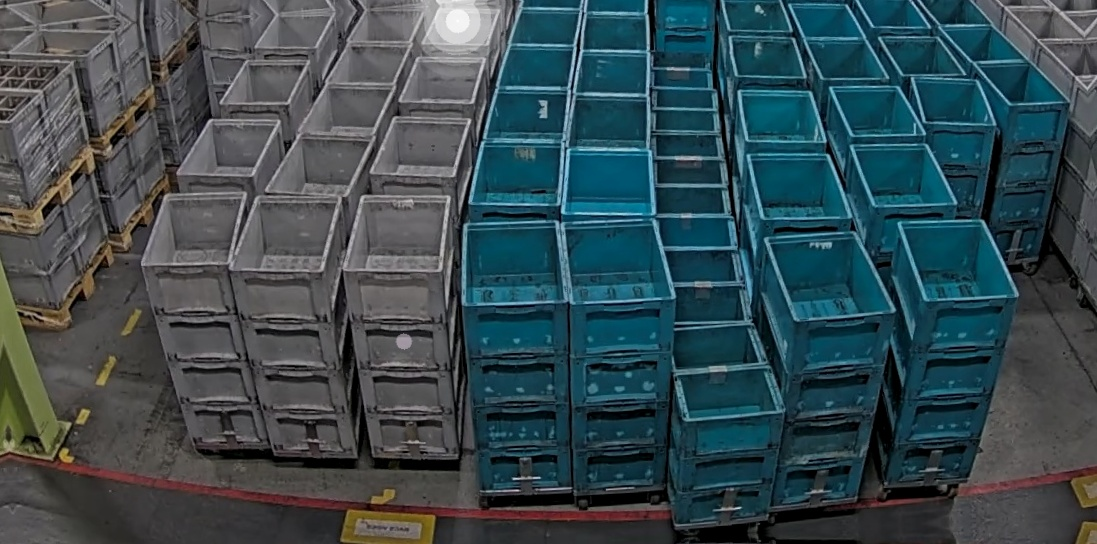4G: (225, 188, 367, 461), (135, 186, 273, 453), (337, 187, 470, 463)
B4: (862, 213, 1030, 486), (748, 228, 908, 508), (558, 215, 689, 493), (456, 216, 582, 495), (908, 69, 1005, 223)
B8: (659, 319, 793, 527)
